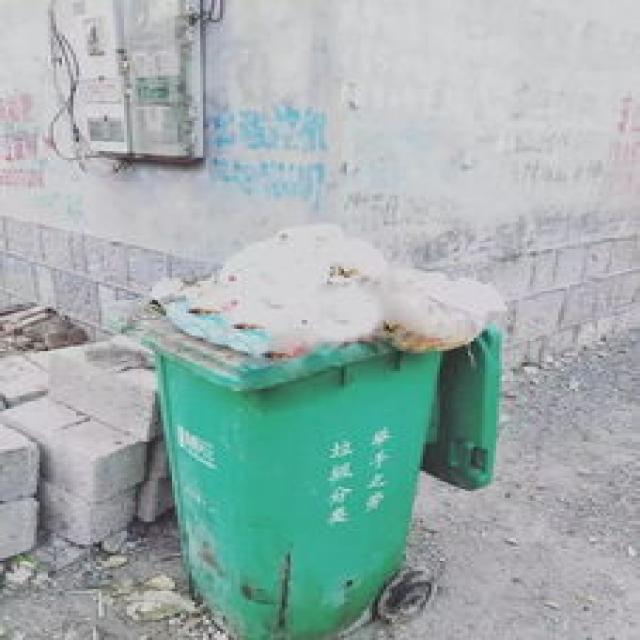overflow: (96, 222, 499, 638)
